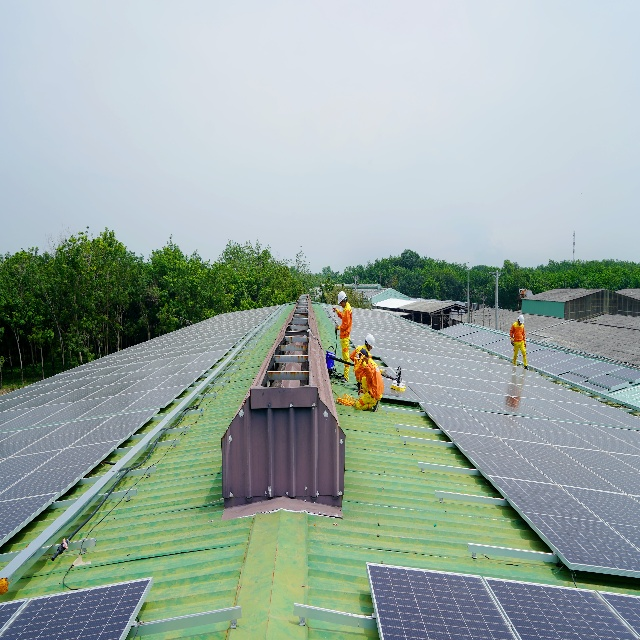Guantes: (382, 368, 388, 378)
Sin_guantes: (331, 306, 337, 313), (358, 388, 363, 396)
